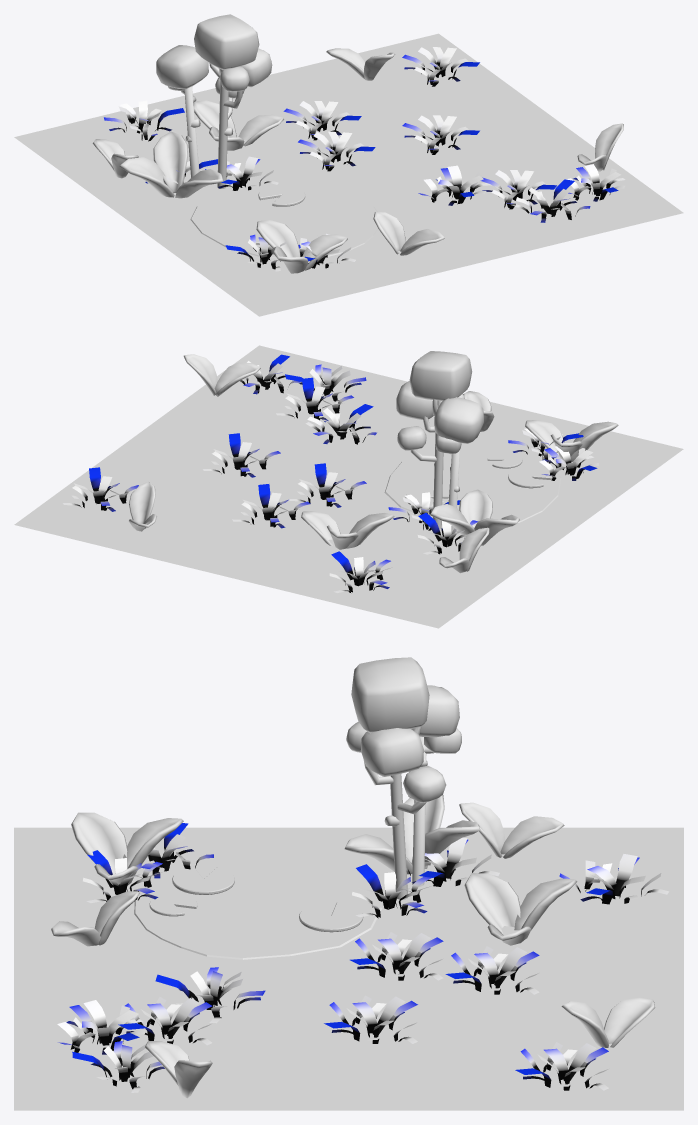
The model's file is TILE_FIELDS_POUND.fbx.
3 views of the same model, one above another, from view 1: azimuth 30°, elevation 25°; view 2: azimuth 150°, elevation 25°; view 3: azimuth 270°, elevation 25° (orthographic). The views are drawn at different scales.
Visible parts, largest first — view 1: FLOOR.013, GRASS.001, BUSHES.001, Cube.002, Village_Env_Tree_02_Trunk.003, Village_Env_Tree_01_Trunk.004, Cylinder.015; view 2: FLOOR.013, GRASS.001, BUSHES.001, Cube.002, Village_Env_Tree_02_Trunk.003, Village_Env_Tree_01_Trunk.004, Cylinder.018, Cylinder.014; view 3: FLOOR.013, GRASS.001, BUSHES.001, Cube.002, Village_Env_Tree_02_Trunk.003, Village_Env_Tree_01_Trunk.004, Cylinder.015, Cylinder.018, Cylinder.014.
Boxes of the visible parts, left/top/right/bottom form: FLOOR.013: left=14, top=33, right=683, bottom=316; GRASS.001: left=104, top=47, right=625, bottom=271; BUSHES.001: left=92, top=48, right=623, bottom=273; Cube.002: left=190, top=183, right=378, bottom=258; Village_Env_Tree_02_Trunk.003: left=194, top=14, right=272, bottom=188; Village_Env_Tree_01_Trunk.004: left=156, top=45, right=208, bottom=177; Cylinder.015: left=258, top=184, right=305, bottom=206; FLOOR.013: left=14, top=345, right=683, bottom=628; GRASS.001: left=63, top=354, right=598, bottom=592; BUSHES.001: left=129, top=354, right=618, bottom=573; Cube.002: left=384, top=446, right=561, bottom=522; Village_Env_Tree_02_Trunk.003: left=396, top=351, right=472, bottom=528; Village_Env_Tree_01_Trunk.004: left=434, top=397, right=483, bottom=537; Cylinder.018: left=508, top=466, right=552, bottom=488; Cylinder.014: left=487, top=452, right=522, bottom=468; FLOOR.013: left=14, top=827, right=683, bottom=1110; GRASS.001: left=57, top=823, right=668, bottom=1092; BUSHES.001: left=51, top=795, right=655, bottom=1098; Cube.002: left=134, top=854, right=382, bottom=959; Village_Env_Tree_02_Trunk.003: left=346, top=657, right=446, bottom=899; Village_Env_Tree_01_Trunk.004: left=408, top=685, right=461, bottom=886; Cylinder.015: left=299, top=902, right=363, bottom=932; Cylinder.018: left=172, top=866, right=234, bottom=894; Cylinder.014: left=149, top=894, right=197, bottom=916.
Bounding box in the file's own units: 204 × 98.8 × 200.
